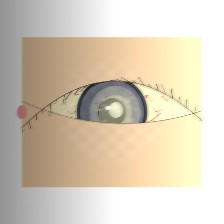corneal_ulcer: (87, 90, 143, 135)
